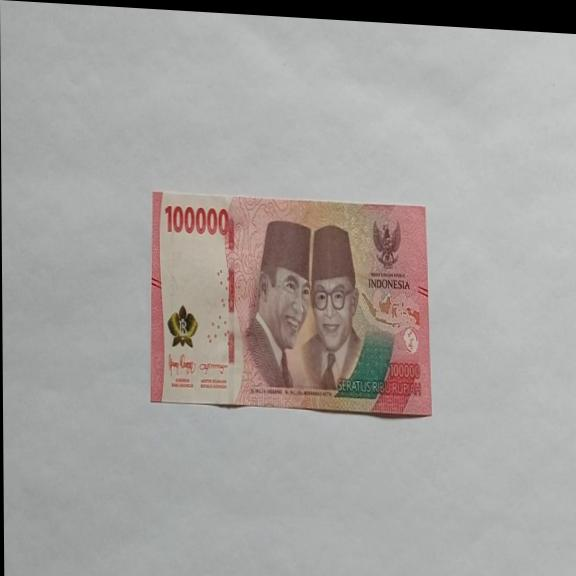Kertas: (148, 187, 432, 421), (164, 201, 231, 239)
